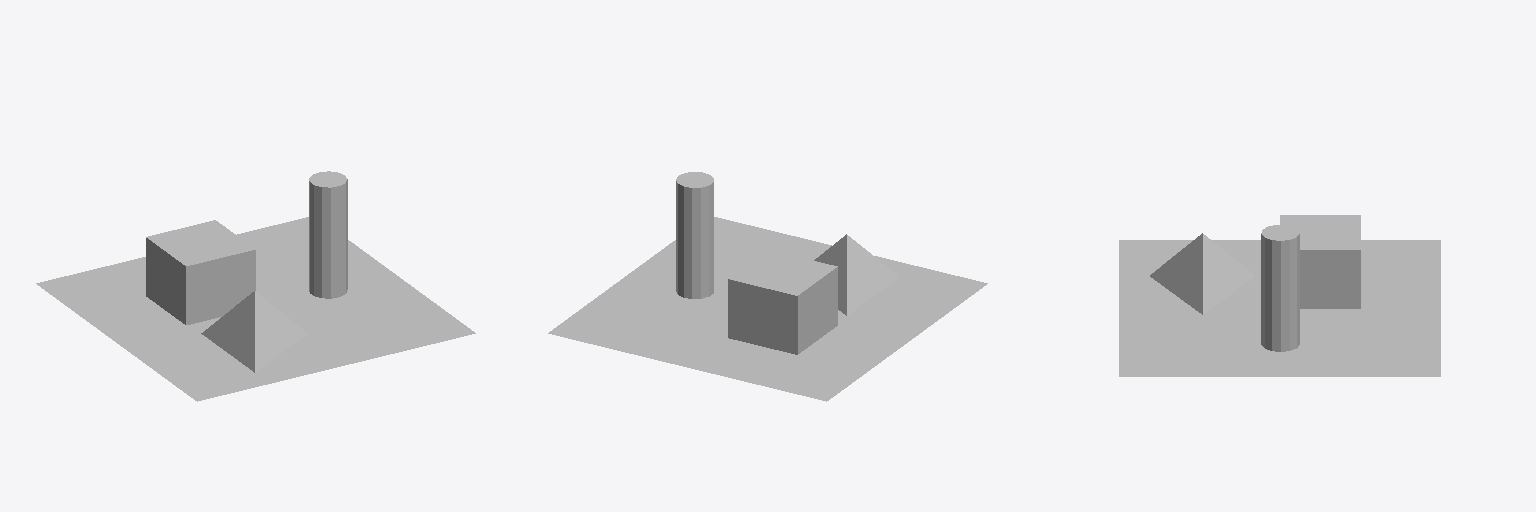
The model's file is polys.obj.
The picture shows the model from 3 angles: view 1: azimuth 30°, elevation 25°; view 2: azimuth 150°, elevation 25°; view 3: azimuth 270°, elevation 25°; orthographic projection.
Visible parts, largest first — view 1: pPlane1, pCylinder1, pCone1; view 2: pPlane1, pCylinder1, pCone1; view 3: pPlane1, pCylinder1, pCone1.
Boxes of the visible parts, x1=… form: pPlane1: x1=36, y1=217, x2=475, y2=401; pCylinder1: x1=309, y1=171, x2=347, y2=298; pCone1: x1=201, y1=291, x2=307, y2=372; pPlane1: x1=548, y1=217, x2=987, y2=401; pCylinder1: x1=676, y1=172, x2=713, y2=298; pCone1: x1=814, y1=234, x2=899, y2=315; pPlane1: x1=1119, y1=215, x2=1440, y2=376; pCylinder1: x1=1261, y1=225, x2=1299, y2=351; pCone1: x1=1150, y1=233, x2=1254, y2=314.
Bounding box in the file's own units: 4.99 × 2 × 4.99.